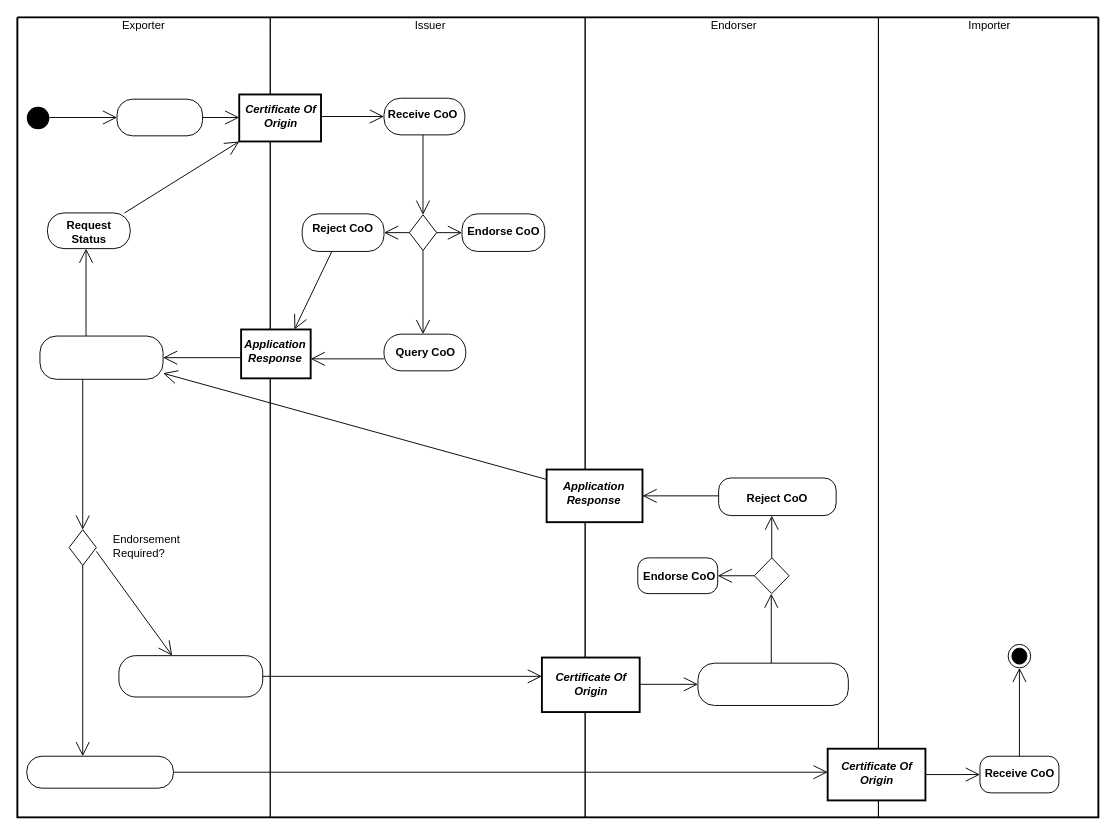
Image size: 1115x834. Some labels were removed from this diagram. Each missing label, with the centre of its shape:
Accept application?: point (422, 232)
Apply for CoO: point (159, 117)
Apply for Endorsement: point (190, 676)
End of CoO Process: point (1019, 655)
Endorse Application?: point (771, 575)
Initiate Transport Process: point (38, 117)
Receive Certificate Of Origin: point (772, 683)
Receive Response: point (101, 357)
Send CoO: point (99, 771)
